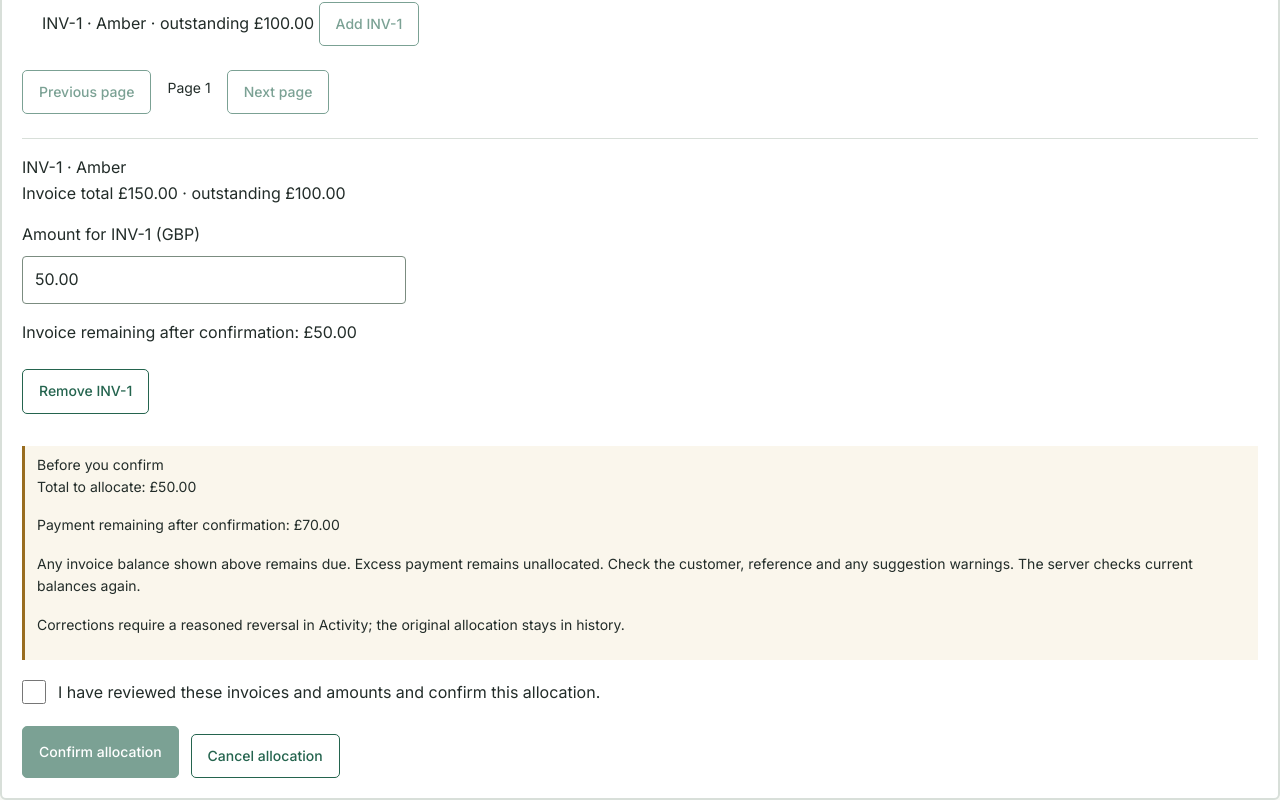
Test: shows consequences and duplicate risk, requires confirmation and clears it after edits
The image size is (1280, 800).
(page scrolled)
Expected: the text "Invoice remaining after confirmation: £50.00" is shown, left=22, top=322, right=357, bottom=342
Expected: the text "Payment remaining after confirmation: £70.00" is shown, left=37, top=516, right=340, bottom=533
Click the checkbox: click(34, 692) left=22, top=680, right=46, bottom=704
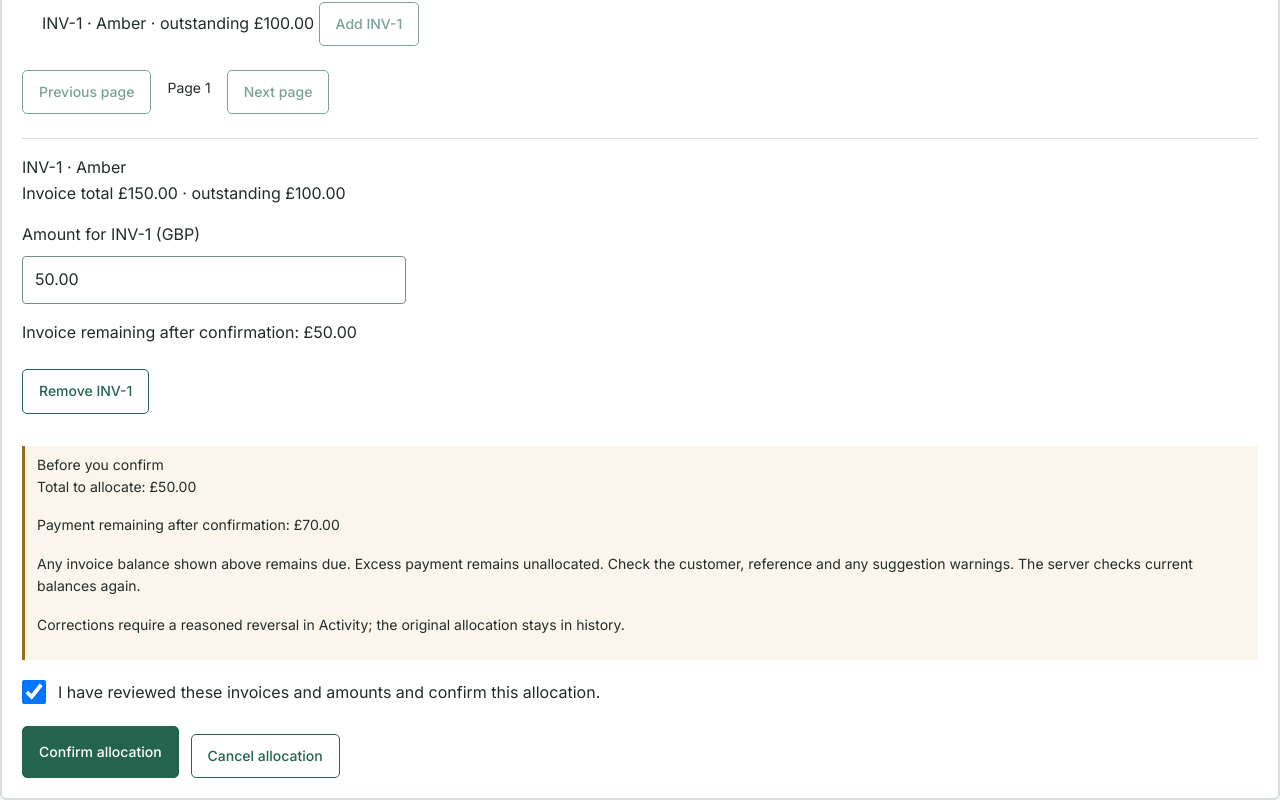
Result: the button "Confirm allocation" is enabled at left=22, top=726, right=179, bottom=778
Replace the text in the field labelled "Amount for INV-1 (GBP)" with "150.00": (214, 280) left=22, top=256, right=406, bottom=304
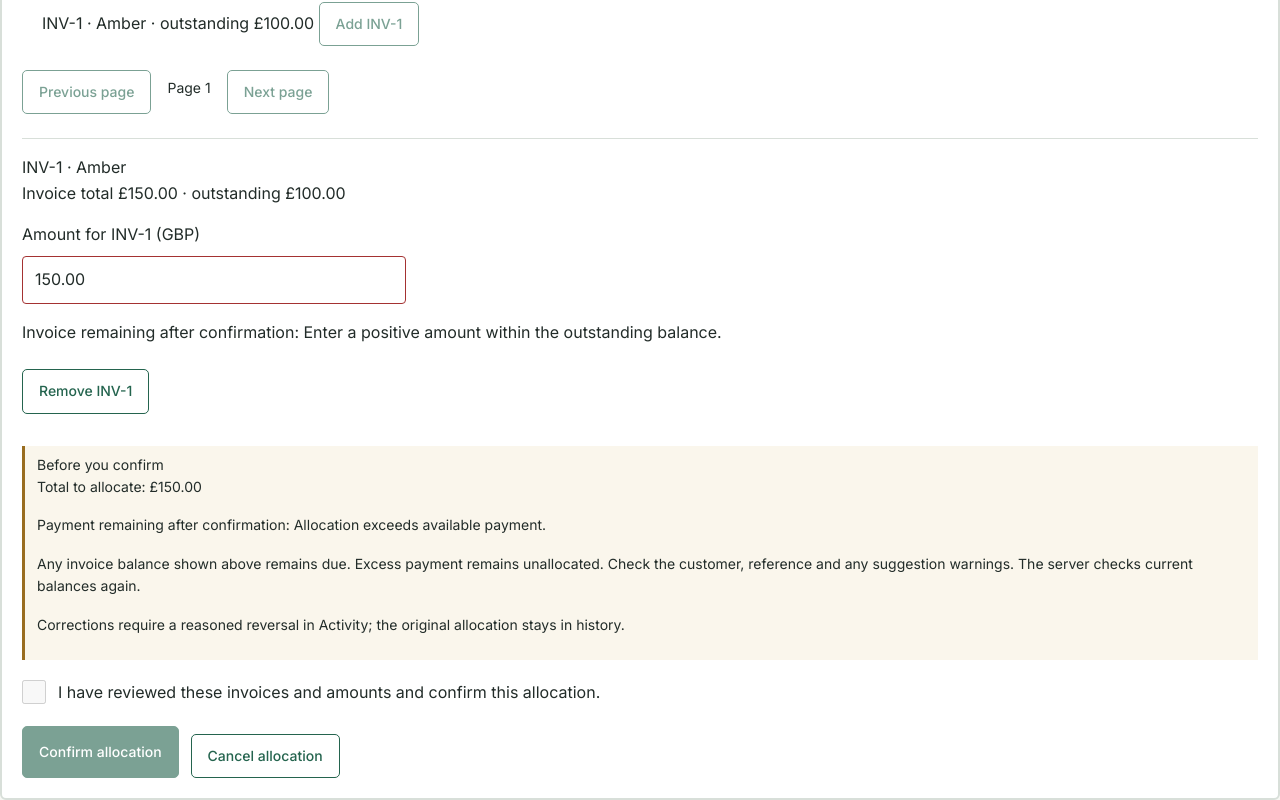
Result: the checkbox is not checked at left=22, top=680, right=46, bottom=704
Result: the button "Confirm allocation" is disabled at left=22, top=726, right=179, bottom=778
